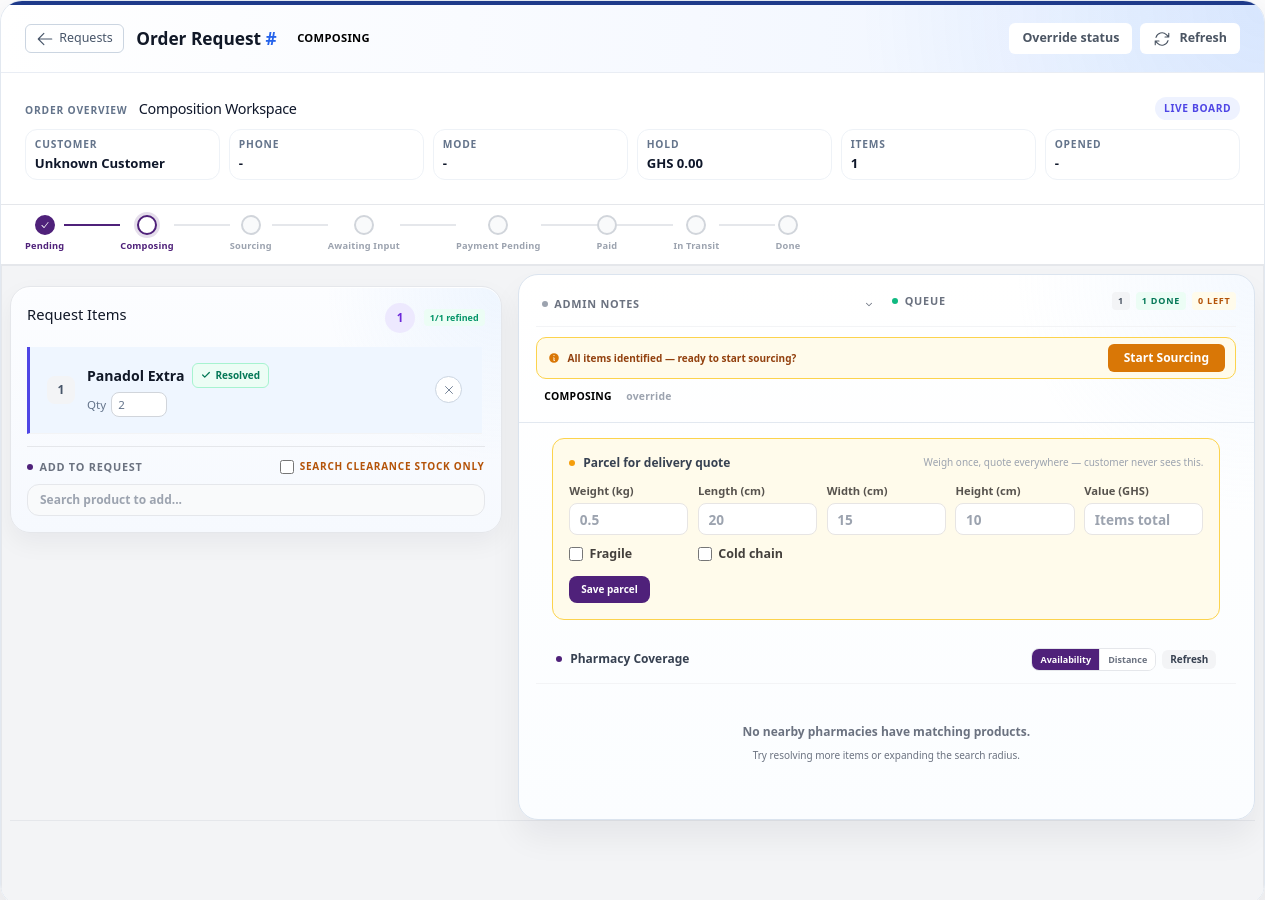
Test: compose: deleting an item › asks first, then deletes and says so
The width and height of the screenshot is (1280, 900).
What coordinates should you click on to do the following:
click the button named "Delete request item"
I would click on:
 (449, 390)
Its box is [435, 376, 462, 403].
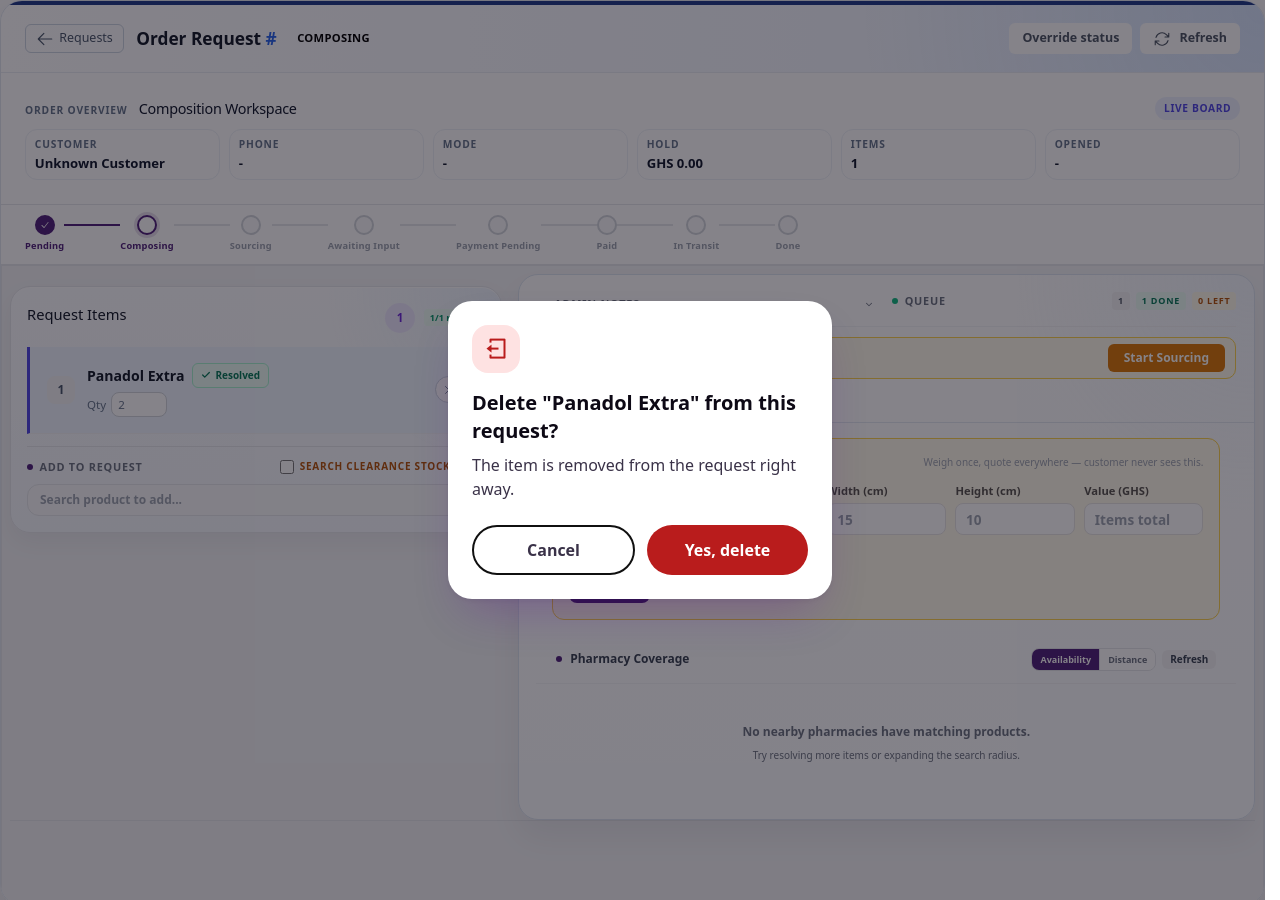
What coordinates should you click on to do the following:
click the button "Yes, delete"
I would click on:
 (728, 550)
Its box is [647, 525, 808, 575].
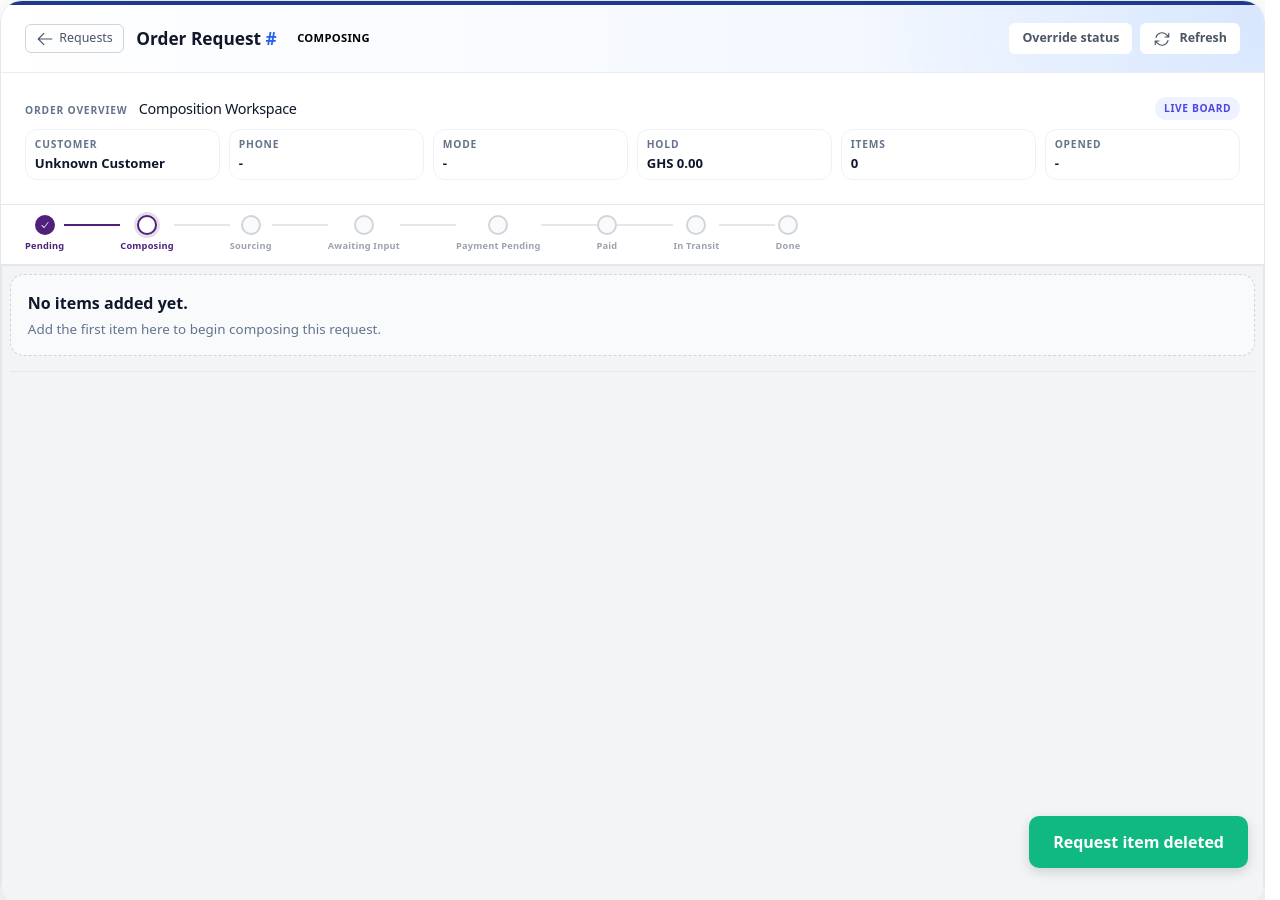
Now the text "Request item deleted" is shown, box [1029, 816, 1248, 868]
